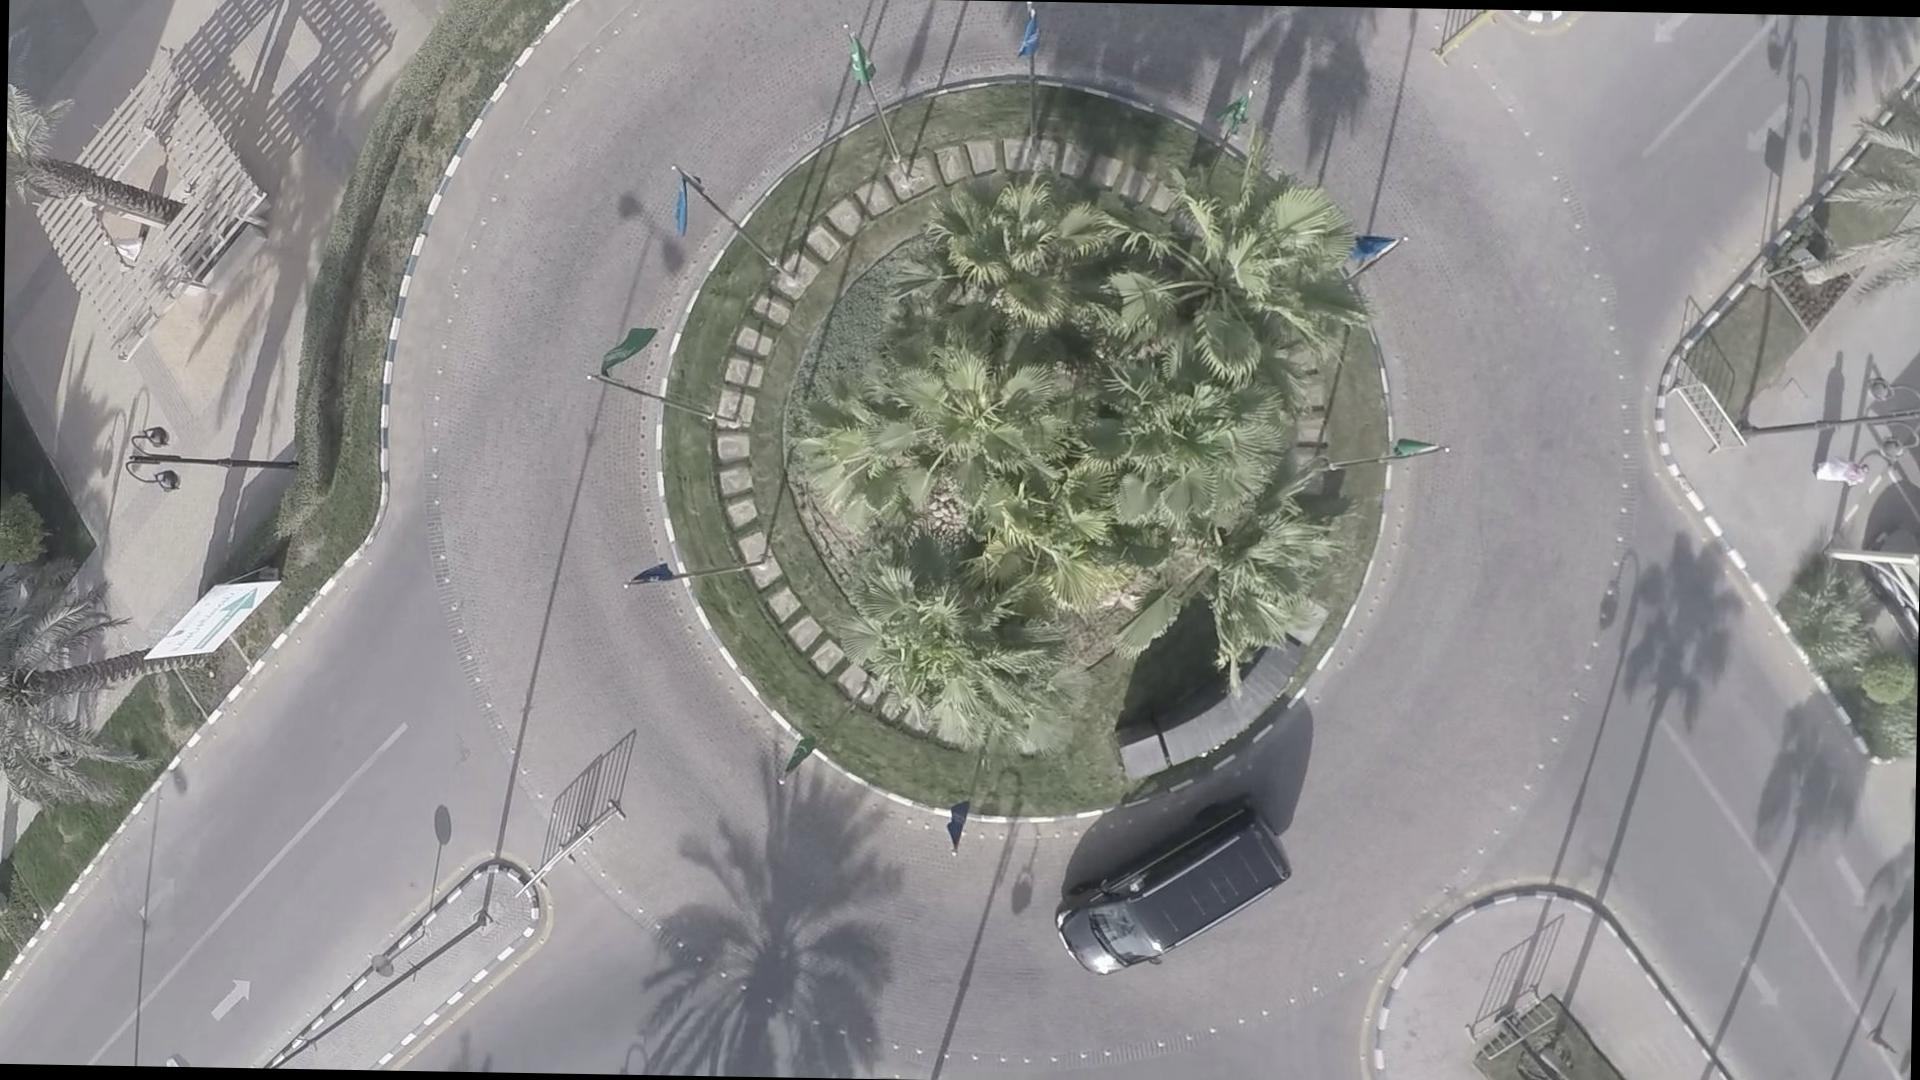vehicle: (1031, 794, 1307, 1004)
